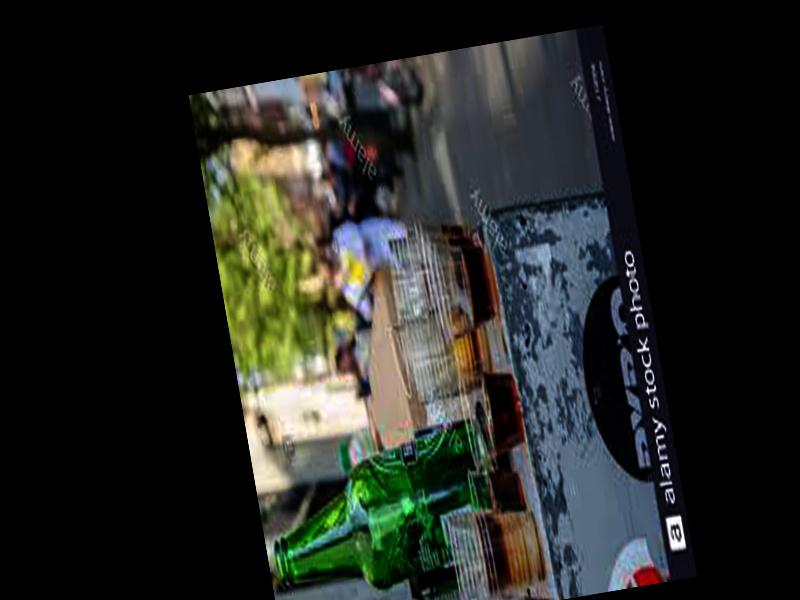Beer: (257, 411, 521, 600)
